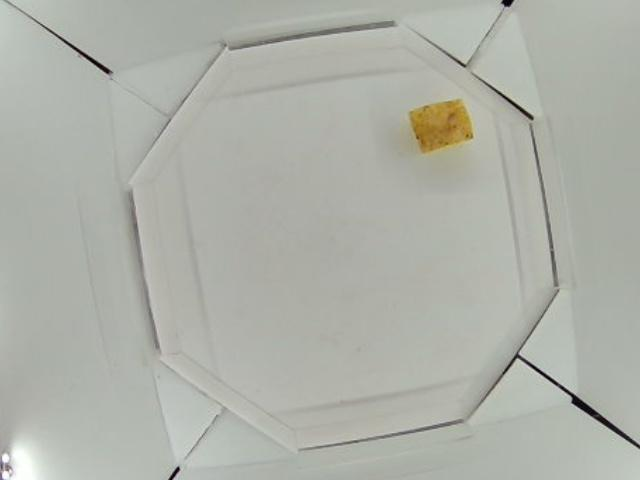Potato: (407, 96, 475, 152)
